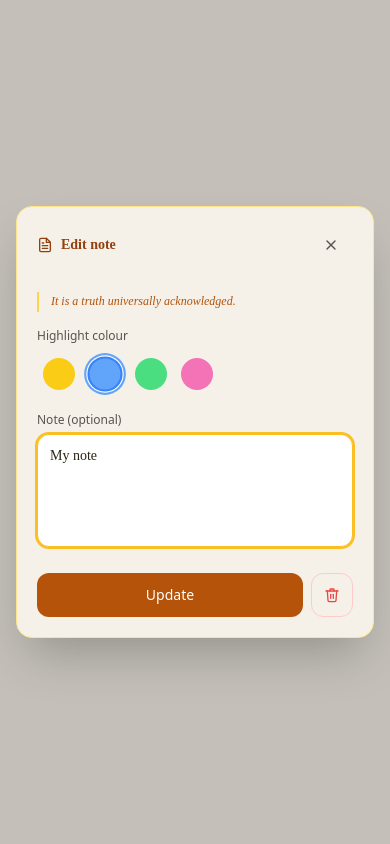
Scenario: AnnotationToolbar — handleDelete error paths (line 106) › shows 'Delete failed. Please try again.' when non-Error is thrown
Click the button named "delete".
click(332, 595)  # box [311,573,353,617]
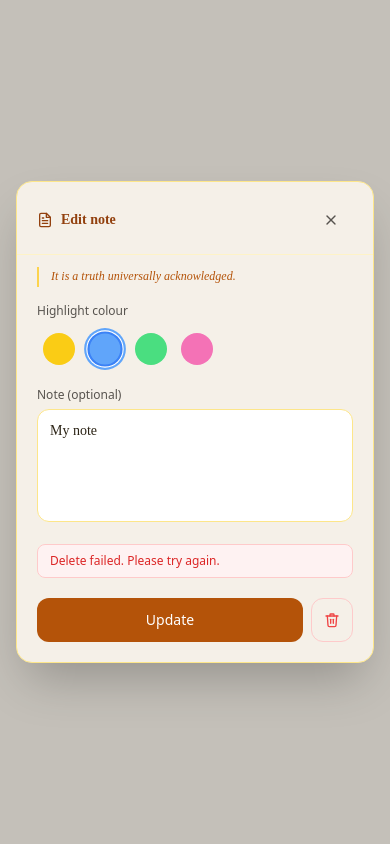
Result: the text "Delete failed. Please try again." is shown at [37,544,353,578]
